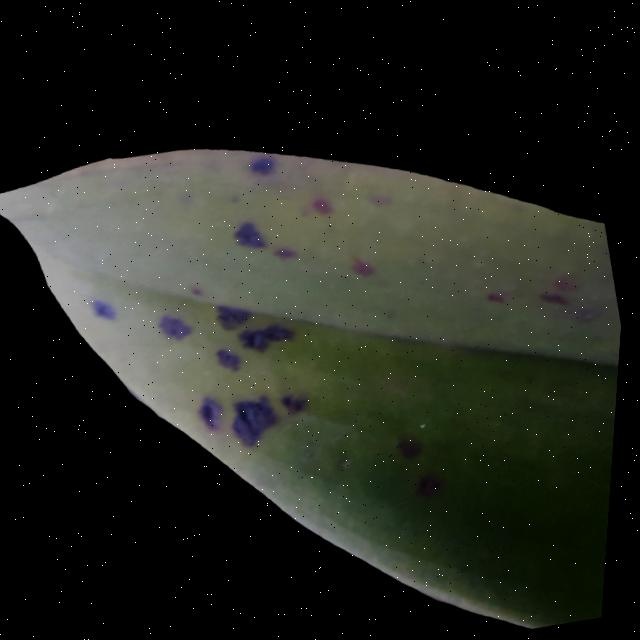mite: (154, 256, 462, 542), (155, 280, 322, 457), (365, 381, 490, 529), (394, 412, 455, 499), (239, 314, 300, 351), (281, 383, 315, 412)
sunburn: (414, 460, 455, 496), (397, 424, 434, 457)
